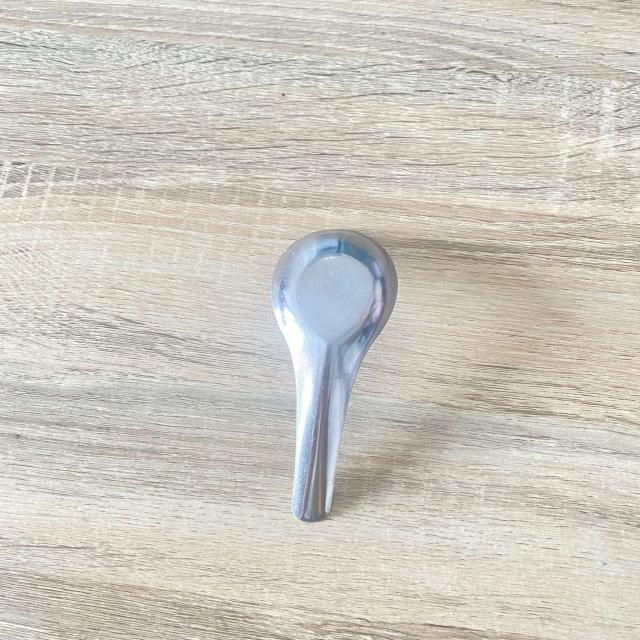short-spoon: (263, 215, 403, 530)
